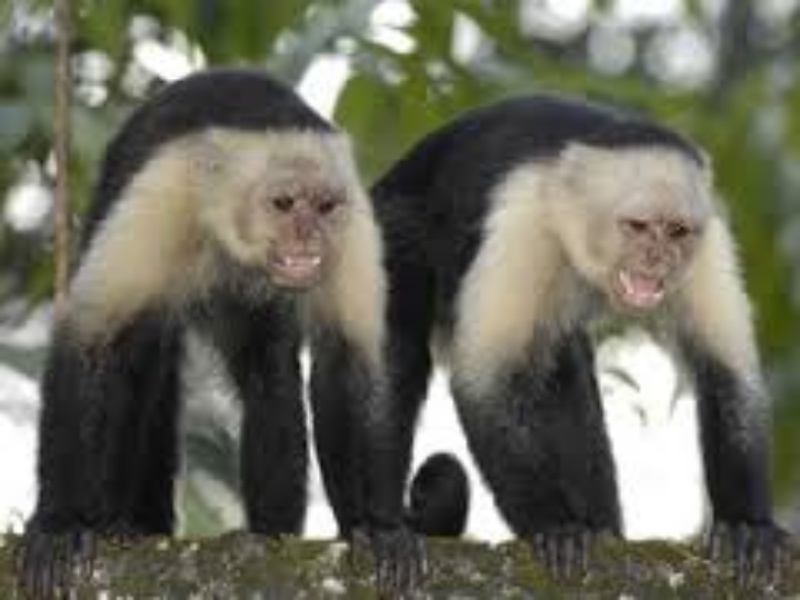monkey: (40, 71, 786, 572)
